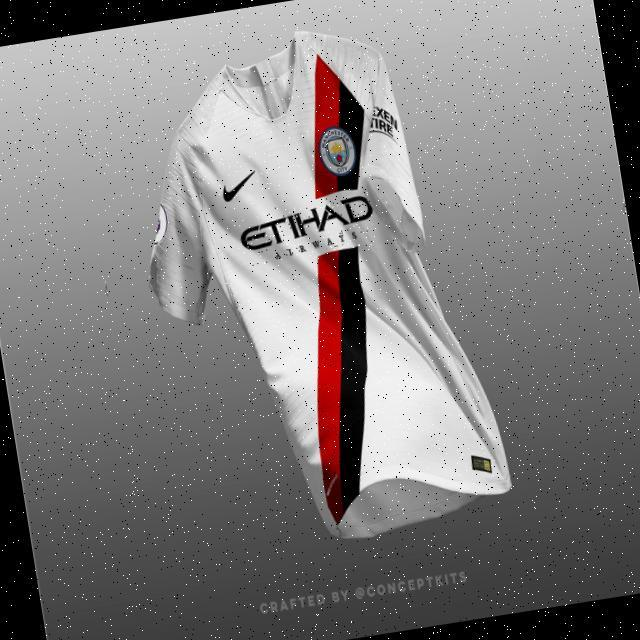Etihad Airways: (237, 192, 379, 267)
Nike: (220, 170, 259, 205)
